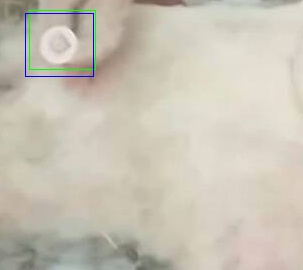text: (29, 10, 95, 69)
